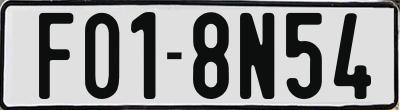0: (84, 10, 124, 96)
1: (130, 12, 161, 104)
4: (333, 13, 373, 104)
5: (285, 12, 323, 102)
8: (190, 9, 229, 97)
F: (37, 11, 75, 100)
N: (237, 13, 276, 104)
